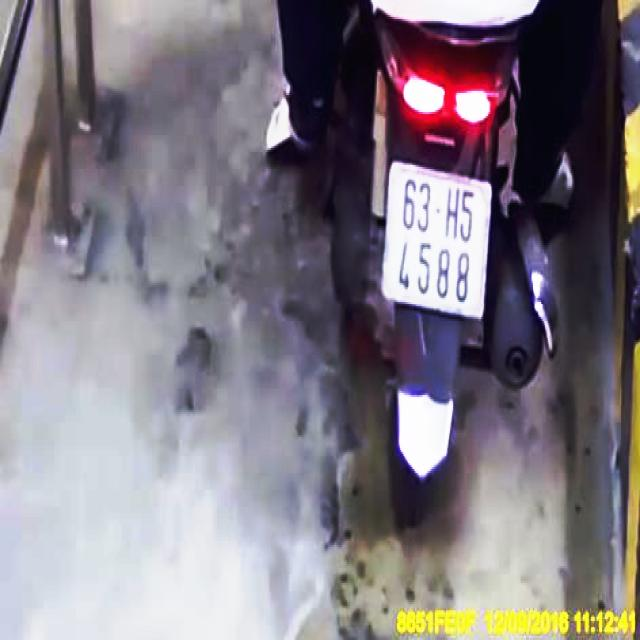license_plate: (384, 161, 493, 315)
